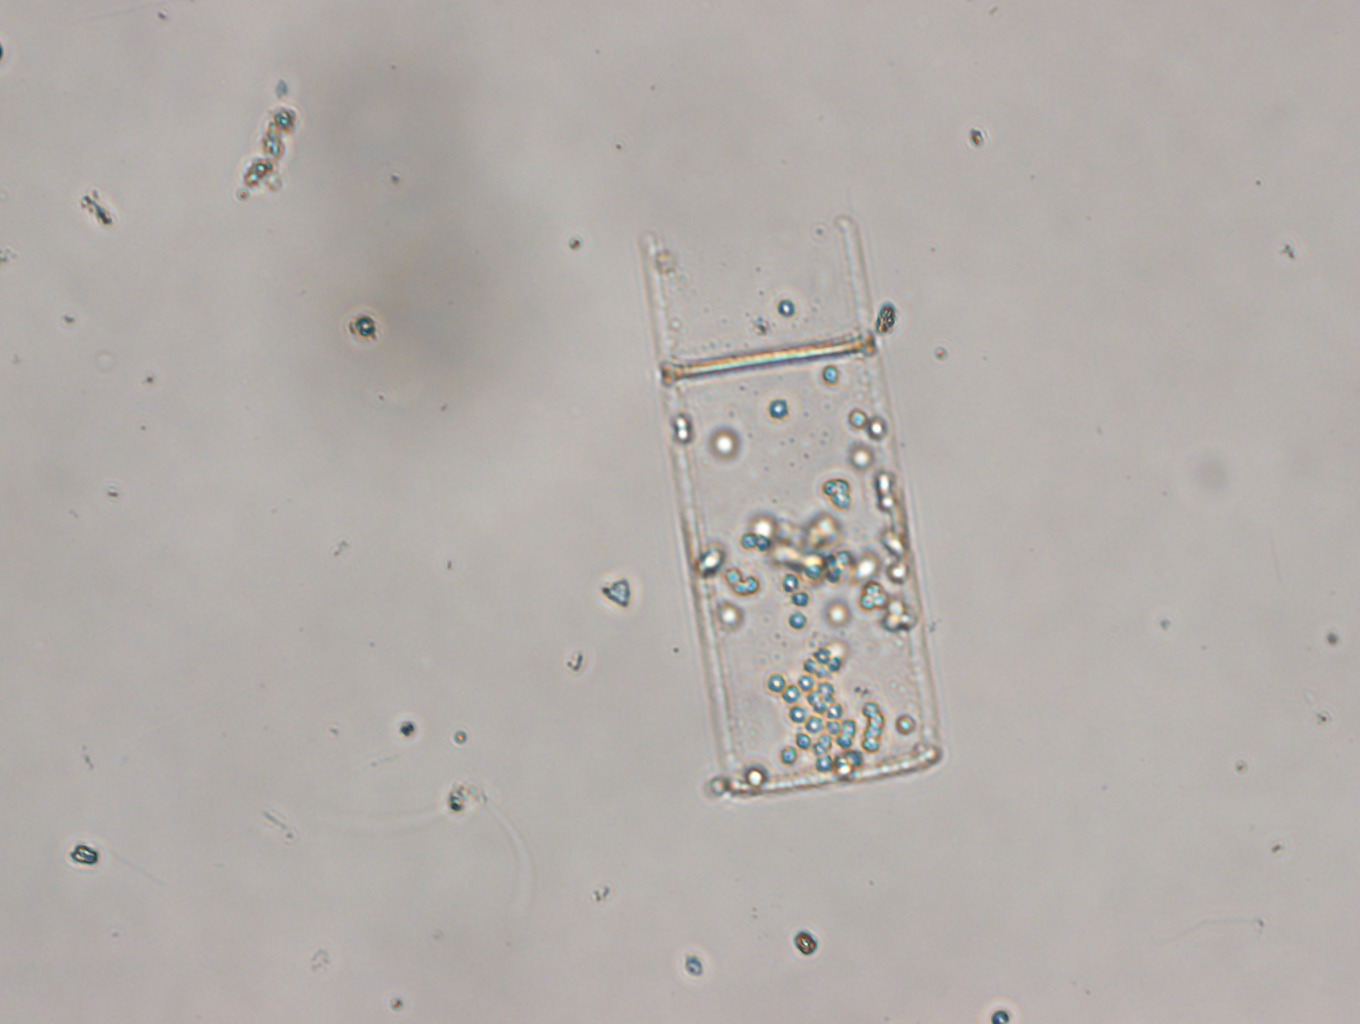guinardia flaccida: (644, 218, 945, 797)
